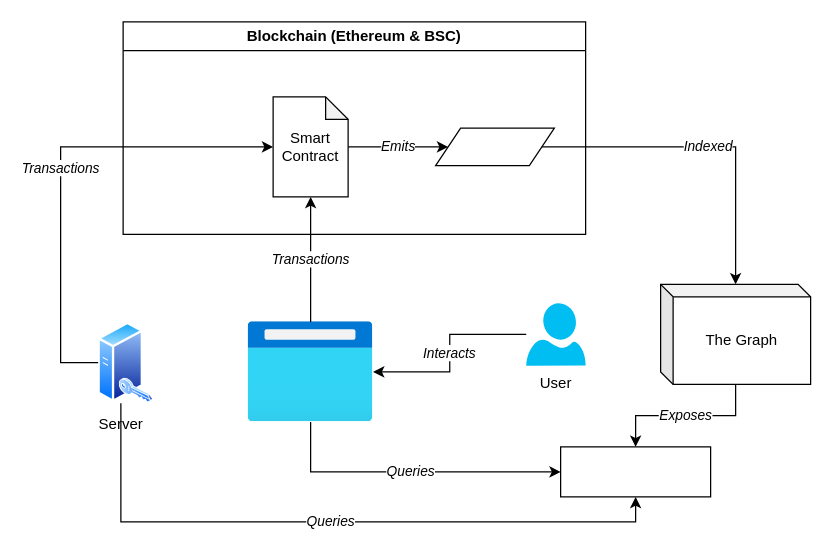
The diagram is 833 pixels wide and 554 high, and some of its shapes have lost their labels. Here are the shapes that lost their labels. From the top down, the centre of each, then its label:
At pixel 494 146: "Events".
At pixel 310 371: "dApp".
At pixel 635 471: "GraphQL API".
